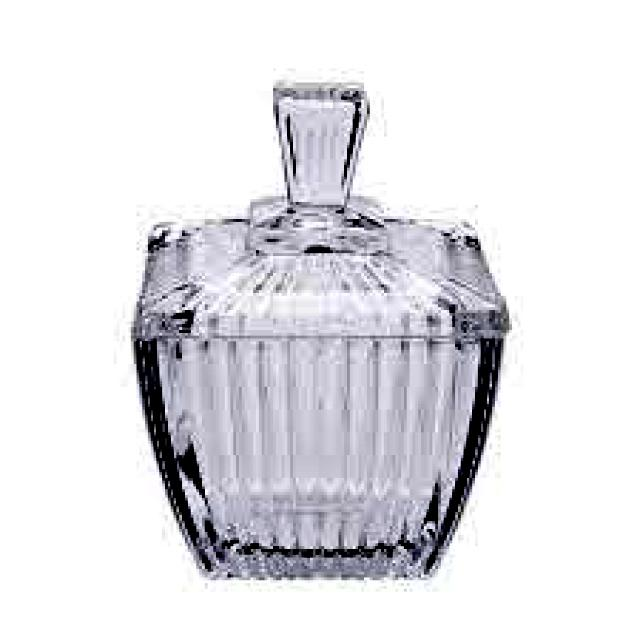Glass: (134, 188, 513, 584)
